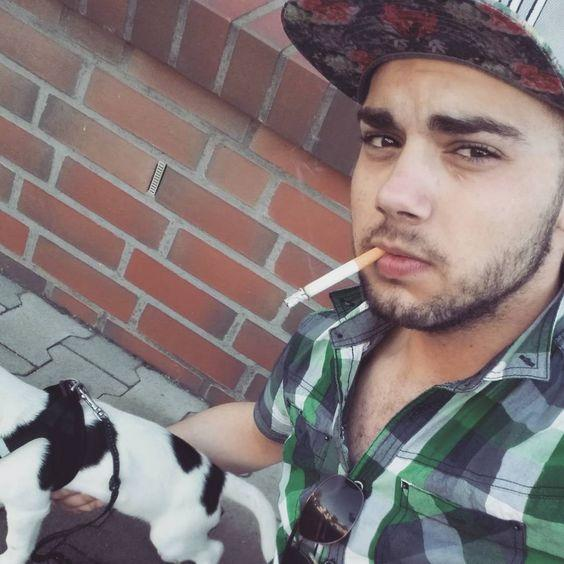cigarette: (284, 246, 386, 309)
